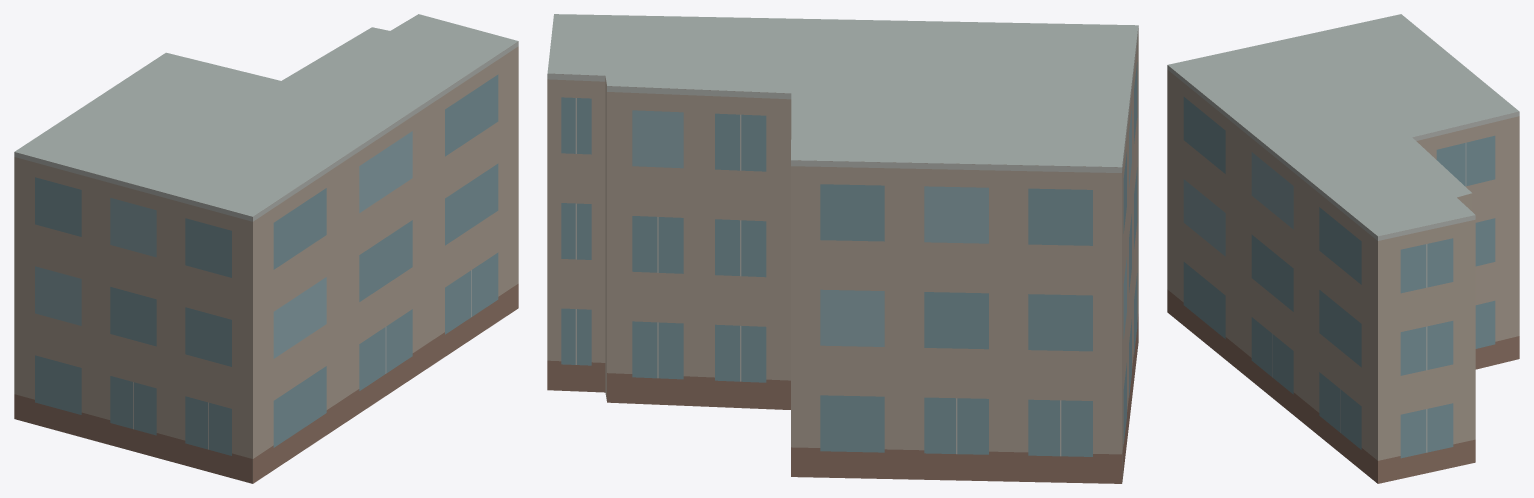
File: survey-upis-32495313.glb
3 renders of one model, left to right at view 1: azimuth 30°, elevation 25°; view 2: azimuth 150°, elevation 25°; view 3: azimuth 270°, elevation 25°, orthographic. The views are drawn at different scales.
Parts seen in each view (by area): view 1: survey-upis-32495313.tmp; view 2: survey-upis-32495313.tmp; view 3: survey-upis-32495313.tmp.
Boxes of the visible parts, bbox=[...] form: survey-upis-32495313.tmp: bbox=[14, 14, 518, 483]; survey-upis-32495313.tmp: bbox=[547, 14, 1138, 483]; survey-upis-32495313.tmp: bbox=[1167, 14, 1519, 483].
Bounding box in the file's own units: 25.06 × 13 × 16.77.
